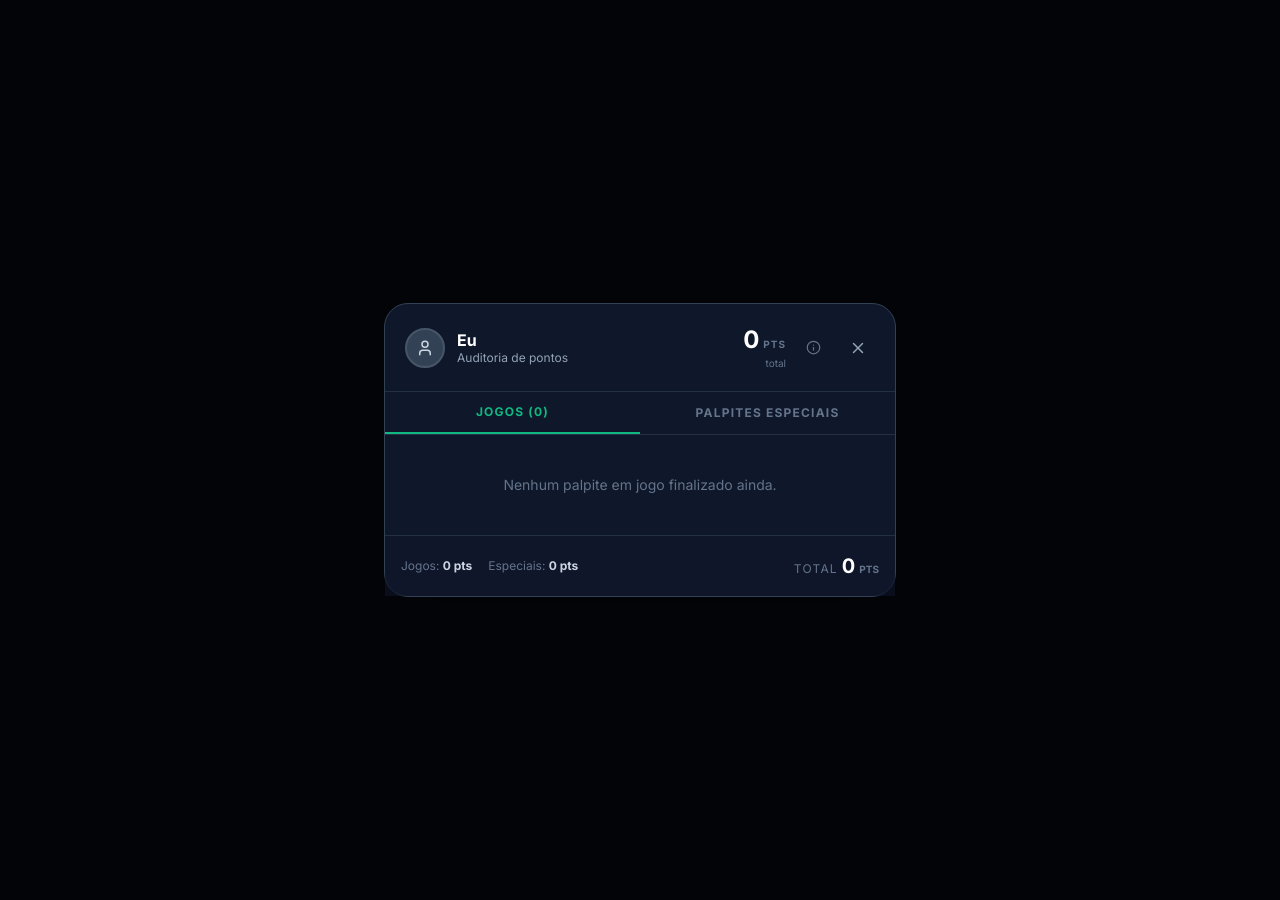
UserAuditModal - Regulamento 2 extra phase predictions › shows '16 Avos de Final' biggest-goal-diff row once the phase has started
Click the button "Palpites Especiais": x=768, y=413 top-left (640, 392), bottom-right (895, 434)
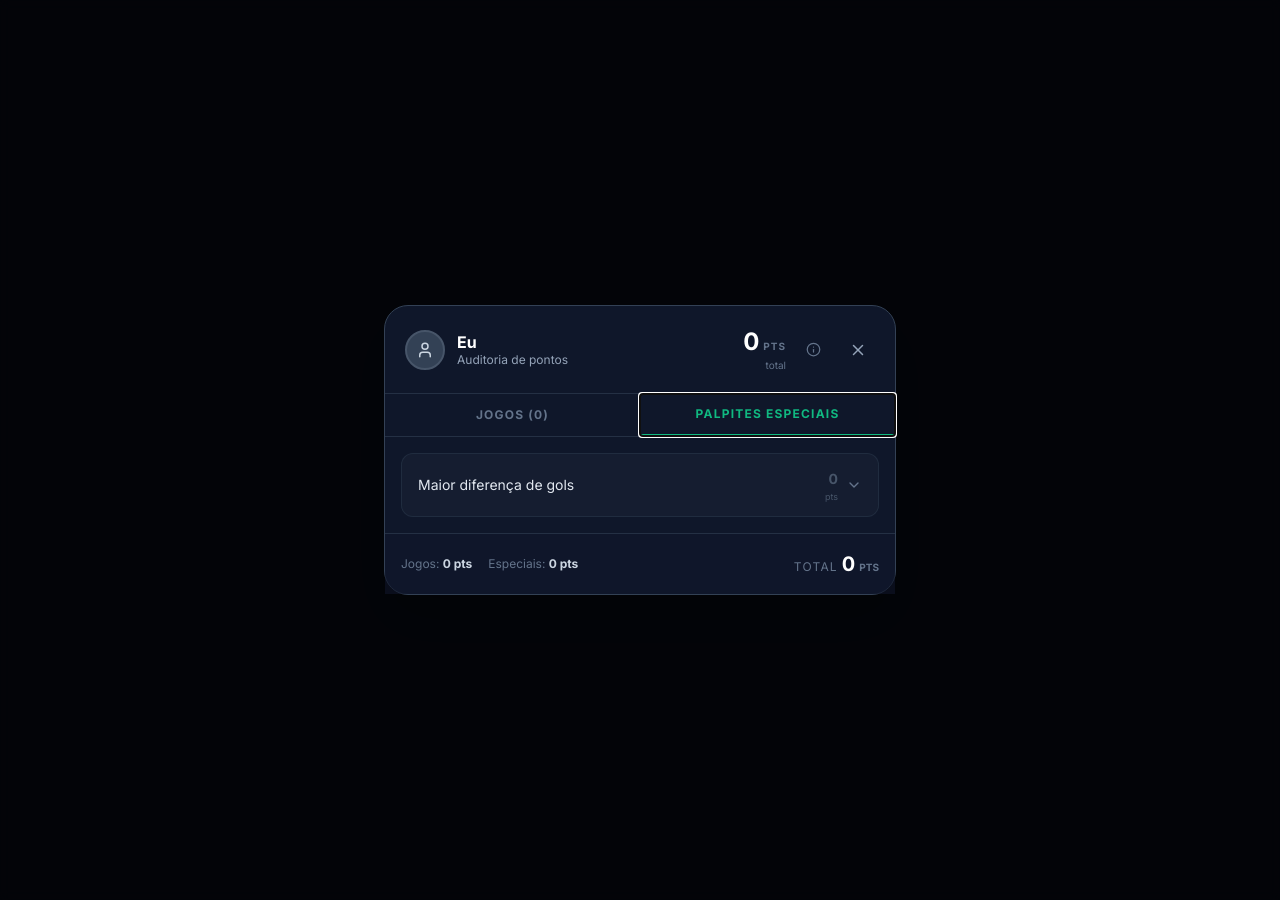
expect the text "Maior diferença de gols" is shown: met, box top-left (418, 476), bottom-right (574, 493)
